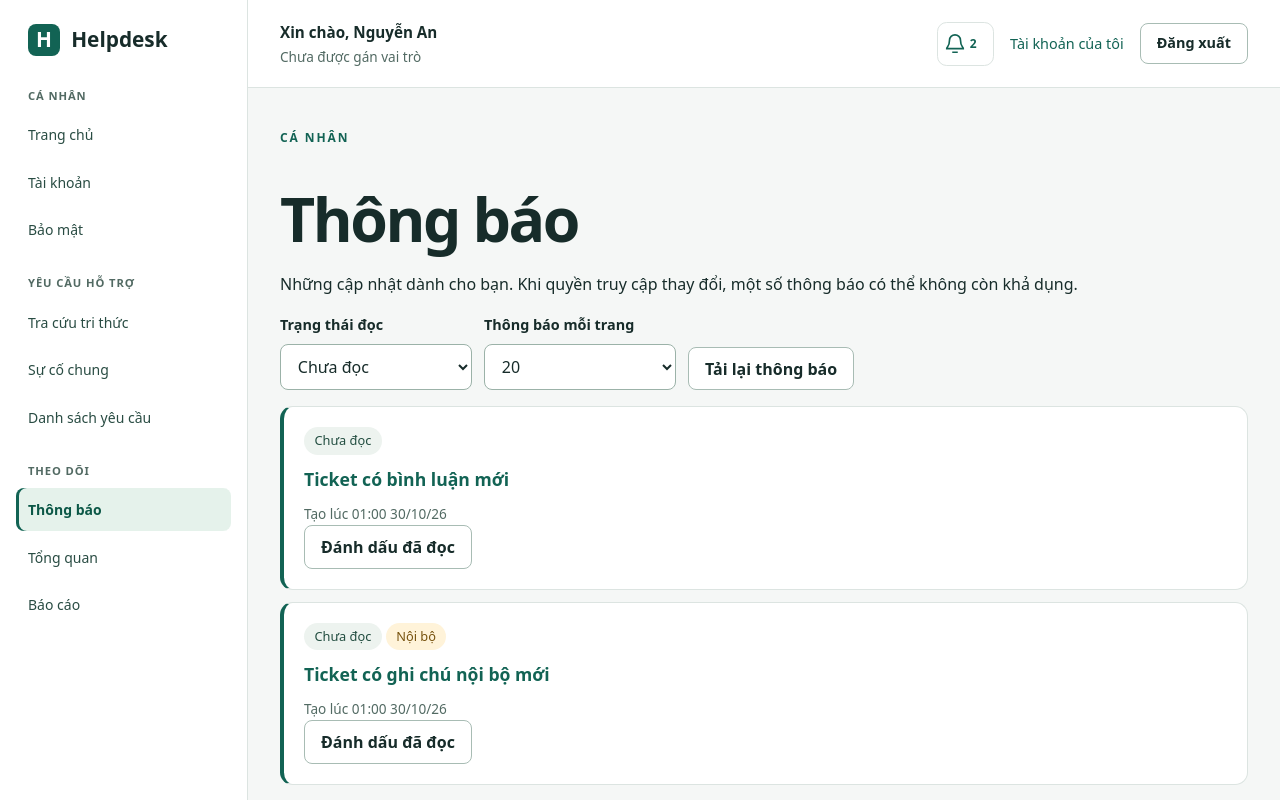
Scenario: persisted notification inbox, count and detail › marks read with a bodyless PUT then refetches unread list and count instead of decrementing locally
The width and height of the screenshot is (1280, 800).
Expected: the link "Ticket có bình luận mới" is shown, left=304, top=467, right=509, bottom=491
Click the button "Đánh dấu đã đọc" below "Ticket có bình luận mới".
click(388, 547)  # box left=304, top=525, right=472, bottom=569
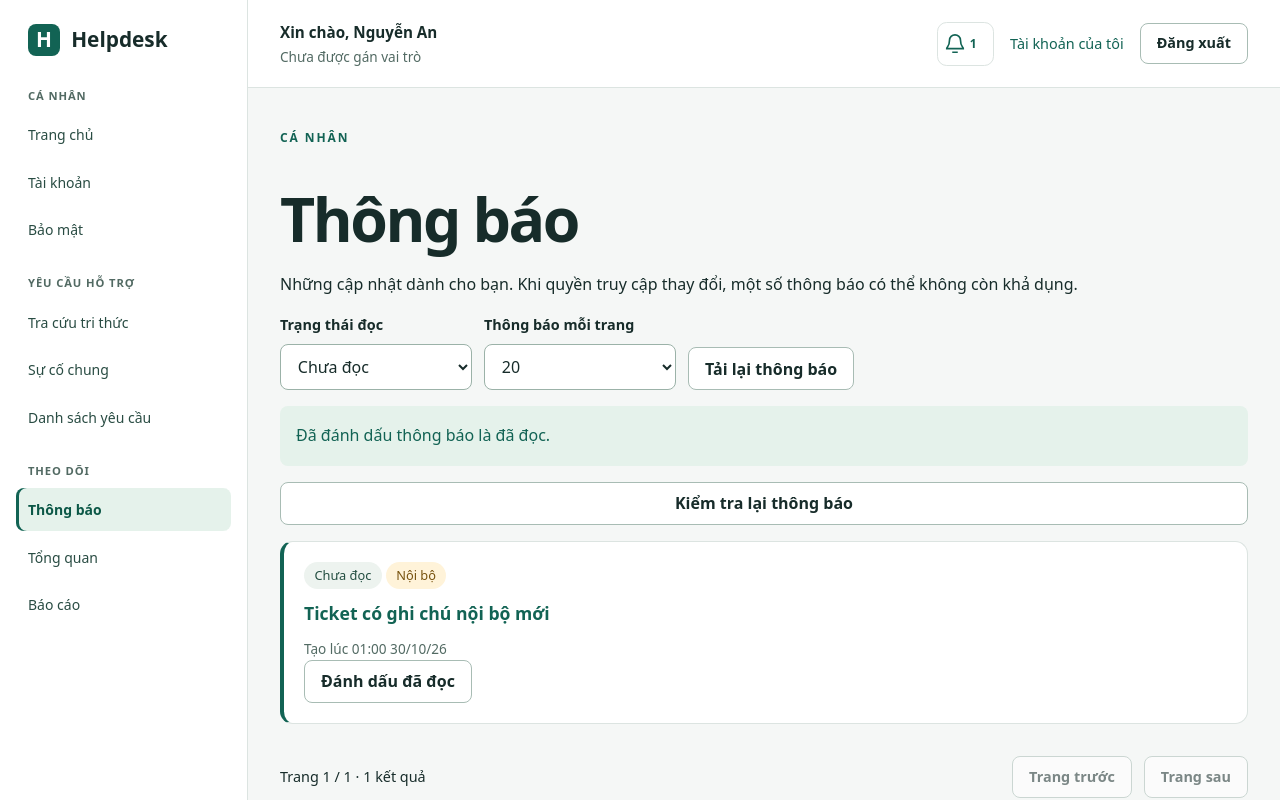
Expected: the text "Đã đánh dấu thông báo là đã đọc." is shown, left=280, top=406, right=1248, bottom=466
Expected: the link named "Thông báo: 1 chưa đọc" is shown, left=937, top=22, right=994, bottom=66
Expected: the link "Ticket có bình luận mới" is gone
